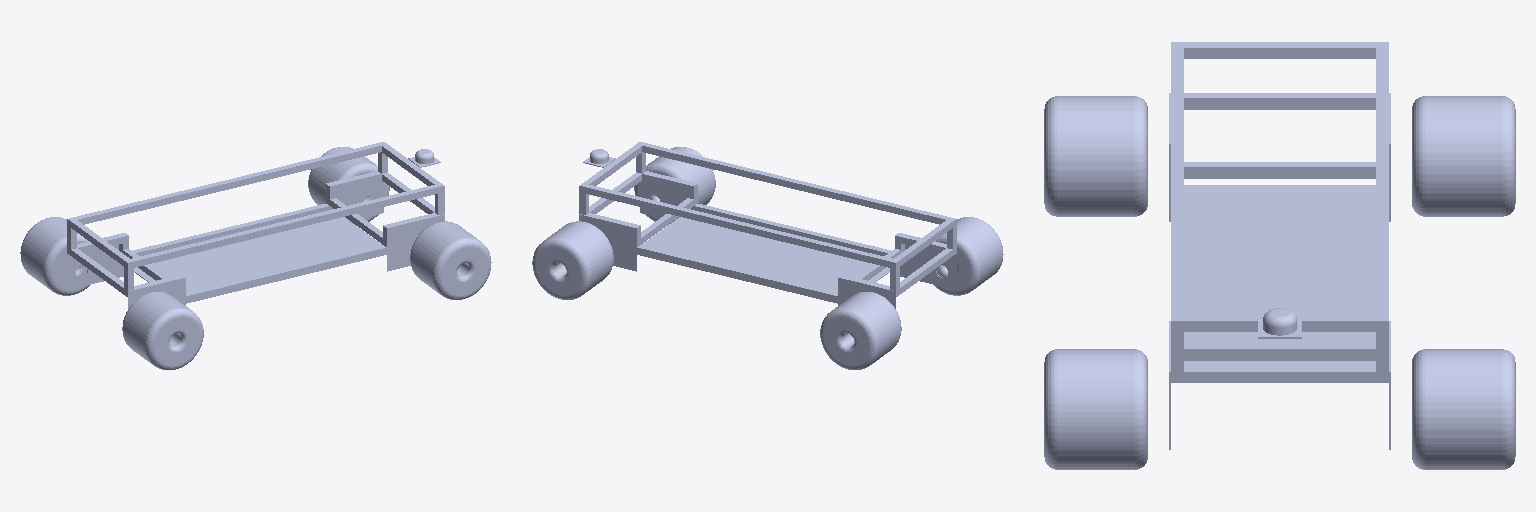
URDF robot description (ca2):
<?xml version="1.0" encoding="utf-8"?>
<robot
  name="ca2">
  <link
    name="base_link">
    <inertial>
      <origin
        xyz="0.0027303 -2.2204E-16 0.10667"
        rpy="0 0 0" />
      <mass
        value="80" />
      <inertia
        ixx="0.60223"
        ixy="-1.5711E-15"
        ixz="2.7179E-16"
        iyy="3.091"
        iyz="5.6748E-16"
        izz="3.4663" />
    </inertial>
    <visual>
      <origin
        xyz="0 0 0"
        rpy="0 0 0" />
      <geometry>
        <mesh
          filename="package://ca2/meshes/base_link.STL" />
      </geometry>
      <material
        name="">
        <color
          rgba="0.79216 0.81961 0.93333 1" />
      </material>
    </visual>
    <collision>
      <origin
        xyz="0 0 0"
        rpy="0 0 0" />
      <geometry>
        <mesh
          filename="package://ca2/meshes/base_link.STL" />
      </geometry>
    </collision>
  </link>
  <link
    name="wheel1">
    <inertial>
      <origin
        xyz="0 0.12 0"
        rpy="0 0 0" />
      <mass
        value="2.5" />
      <inertia
        ixx="0.13237"
        ixy="1.9682E-18"
        ixz="-1.7581E-19"
        iyy="0.13869"
        iyz="-1.2933E-19"
        izz="0.13237" />
    </inertial>
    <visual>
      <origin
        xyz="0 0 0"
        rpy="0 0 0" />
      <geometry>
        <mesh
          filename="package://ca2/meshes/wheel1.STL" />
      </geometry>
      <material
        name="">
        <color
          rgba="0.79216 0.81961 0.93333 1" />
      </material>
    </visual>
    <collision>
      <origin
        xyz="0 0 0"
        rpy="0 0 0" />
      <geometry>
        <mesh
          filename="package://ca2/meshes/wheel1.STL" />
      </geometry>
    </collision>
  </link>
  <joint
    name="wheel1j"
    type="continuous">
    <origin
      xyz="0.695 0.3065 -0.006"
      rpy="0 0 0" />
    <parent
      link="base_link" />
    <child
      link="wheel1" />
    <axis
      xyz="0 -1 0" />
  </joint>
  <link
    name="wheel2">
    <inertial>
      <origin
        xyz="0 -0.12 0"
        rpy="0 0 0" />
      <mass
        value="2.5" />
      <inertia
        ixx="0.13237"
        ixy="2.9784E-18"
        ixz="-3.1171E-19"
        iyy="0.13869"
        iyz="-2.6633E-18"
        izz="0.13237" />
    </inertial>
    <visual>
      <origin
        xyz="0 0 0"
        rpy="0 0 0" />
      <geometry>
        <mesh
          filename="package://ca2/meshes/wheel2.STL" />
      </geometry>
      <material
        name="">
        <color
          rgba="0.79216 0.81961 0.93333 1" />
      </material>
    </visual>
    <collision>
      <origin
        xyz="0 0 0"
        rpy="0 0 0" />
      <geometry>
        <mesh
          filename="package://ca2/meshes/wheel2.STL" />
      </geometry>
    </collision>
  </link>
  <joint
    name="wheel2j"
    type="continuous">
    <origin
      xyz="0.695 -0.3065 -0.006"
      rpy="0 0 0" />
    <parent
      link="base_link" />
    <child
      link="wheel2" />
    <axis
      xyz="0 -1 0" />
  </joint>
  <link
    name="wheel3">
    <inertial>
      <origin
        xyz="0 0.12 0"
        rpy="0 0 0" />
      <mass
        value="2.5" />
      <inertia
        ixx="0.13237"
        ixy="-1.9516E-18"
        ixz="-1.743E-18"
        iyy="0.13869"
        iyz="3.9031E-18"
        izz="0.13237" />
    </inertial>
    <visual>
      <origin
        xyz="0 0 0"
        rpy="0 0 0" />
      <geometry>
        <mesh
          filename="package://ca2/meshes/wheel3.STL" />
      </geometry>
      <material
        name="">
        <color
          rgba="0.79216 0.81961 0.93333 1" />
      </material>
    </visual>
    <collision>
      <origin
        xyz="0 0 0"
        rpy="0 0 0" />
      <geometry>
        <mesh
          filename="package://ca2/meshes/wheel3.STL" />
      </geometry>
    </collision>
  </link>
  <joint
    name="wheel3j"
    type="continuous">
    <origin
      xyz="-0.695 0.3065 -0.006"
      rpy="0 0 0" />
    <parent
      link="base_link" />
    <child
      link="wheel3" />
    <axis
      xyz="0 -1 0" />
  </joint>
  <link
    name="wheel4">
    <inertial>
      <origin
        xyz="-6.9389E-18 -0.12 0"
        rpy="0 0 0" />
      <mass
        value="2.5" />
      <inertia
        ixx="0.13237"
        ixy="-9.4791E-19"
        ixz="-9.581E-19"
        iyy="0.13869"
        iyz="-2.0908E-19"
        izz="0.13237" />
    </inertial>
    <visual>
      <origin
        xyz="0 0 0"
        rpy="0 0 0" />
      <geometry>
        <mesh
          filename="package://ca2/meshes/wheel4.STL" />
      </geometry>
      <material
        name="">
        <color
          rgba="0.79216 0.81961 0.93333 1" />
      </material>
    </visual>
    <collision>
      <origin
        xyz="0 0 0"
        rpy="0 0 0" />
      <geometry>
        <mesh
          filename="package://ca2/meshes/wheel4.STL" />
      </geometry>
    </collision>
  </link>
  <joint
    name="wheel4j"
    type="continuous">
    <origin
      xyz="-0.695 -0.3065 -0.006"
      rpy="0 0 0" />
    <parent
      link="base_link" />
    <child
      link="wheel4" />
    <axis
      xyz="0 -1 0" />
  </joint>
  <link
    name="lidar">
    <inertial>
      <origin
        xyz="2.2204E-16 0 0.018388"
        rpy="0 0 0" />
      <mass
        value="0.2" />
      <inertia
        ixx="8.9507E-05"
        ixy="2.5058E-21"
        ixz="3.2972E-21"
        iyy="8.9507E-05"
        iyz="-8.5569E-24"
        izz="0.00013587" />
    </inertial>
    <visual>
      <origin
        xyz="0 0 0"
        rpy="0 0 0" />
      <geometry>
        <mesh
          filename="package://ca2/meshes/lidar.STL" />
      </geometry>
      <material
        name="">
        <color
          rgba="0.79216 0.81961 0.93333 1" />
      </material>
    </visual>
    <collision>
      <origin
        xyz="0 0 0"
        rpy="0 0 0" />
      <geometry>
        <mesh
          filename="package://ca2/meshes/lidar.STL" />
      </geometry>
    </collision>
  </link>
  <joint
    name="lidarj"
    type="fixed">
    <origin
      xyz="0.815 0 0.258"
      rpy="0 0 1.5708" />
    <parent
      link="base_link" />
    <child
      link="lidar" />
    <axis
      xyz="0 0 0" />
  </joint>
 <!-- hokuyo -->
  <gazebo reference="lidar">
    <sensor type="ray" name="head_hokuyo_sensor">
      <pose>0 0 0 0 0 0</pose>
      <visualize>true</visualize>
      <update_rate>40</update_rate>
      <ray>
        <scan>
          <horizontal>
            <samples>720</samples>
            <resolution>1</resolution>
            <min_angle>-2.5</min_angle>
            <max_angle>0.35</max_angle>
          </horizontal>
        </scan>
        <range>
          <min>0.10</min>
          <max>30.0</max>
          <resolution>0.01</resolution>
        </range>
        <noise>
          <type>gaussian</type>
          <!-- Noise parameters based on published spec for Hokuyo laser
               achieving "+-30mm" accuracy at range < 10m.  A mean of 0.0m and
               stddev of 0.01m will put 99.7% of samples within 0.03m of the true
               reading. -->
          <mean>0.0</mean>
          <stddev>0.01</stddev>
        </noise>
      </ray>
      <plugin name="gazebo_ros_head_hokuyo_controller" filename="libgazebo_ros_laser.so">
        <topicName>/scan</topicName>
        <frameName>lidar</frameName>
      </plugin>
    </sensor>
  </gazebo>

<gazebo>
  <plugin name="skid_steer_drive_controller" filename="libgazebo_ros_skid_steer_drive.so">
    <updateRate>100.0</updateRate>
    <robotNamespace>/</robotNamespace>
    <leftFrontJoint>wheel4j</leftFrontJoint>
    <rightFrontJoint>wheel3j</rightFrontJoint>
    <leftRearJoint>wheel2j</leftRearJoint>
    <rightRearJoint>wheel1j</rightRearJoint>
    <wheelSeparation>0.613</wheelSeparation>
    <wheelDiameter>0.280</wheelDiameter>
    <robotBaseFrame>base_link</robotBaseFrame>
    <odometryTopic>odom</odometryTopic>
    <odometryFrame>odom</odometryFrame>
    <torque>20</torque>
    <topicName>cmd_vel</topicName>
    <broadcastTF>true</broadcastTF>
    <publishTF>true</publishTF>
  </plugin>
</gazebo>
</robot>

--- Render facts (derived) ---
The picture shows the robot from 3 angles, left to right: view 1: azimuth 30°, elevation 25°; view 2: azimuth 150°, elevation 25°; view 3: azimuth 270°, elevation 25°; orthographic projection.
Robot: ca2 — 6 links, 5 joints (4 continuous, 1 fixed); root link base_link; default pose: all joints at 0.
Visible links, largest first — view 1: base_link, wheel2, wheel4, wheel3, wheel1; view 2: base_link, wheel1, wheel3, wheel4, wheel2; view 3: base_link, wheel1, wheel2, wheel3, wheel4, lidar.
Link boxes in pixels (x1,y1,x2,y2): base_link: [67, 142, 444, 308]; wheel2: [410, 221, 491, 299]; wheel4: [122, 292, 203, 369]; wheel3: [20, 217, 89, 295]; wheel1: [308, 147, 389, 223]; base_link: [579, 142, 956, 308]; wheel1: [532, 221, 613, 299]; wheel3: [820, 292, 901, 369]; wheel4: [934, 217, 1003, 295]; wheel2: [634, 147, 715, 225]; base_link: [1169, 42, 1390, 449]; wheel1: [1412, 349, 1515, 469]; wheel2: [1044, 349, 1147, 469]; wheel3: [1412, 96, 1515, 216]; wheel4: [1044, 96, 1147, 216]; lidar: [1263, 308, 1296, 335].
Bounding box of the posed robot: 1.7 × 1.09 × 0.444 m (x, y, z).
6 mesh visuals loaded from 6 distinct referenced files (6 binary STL).
